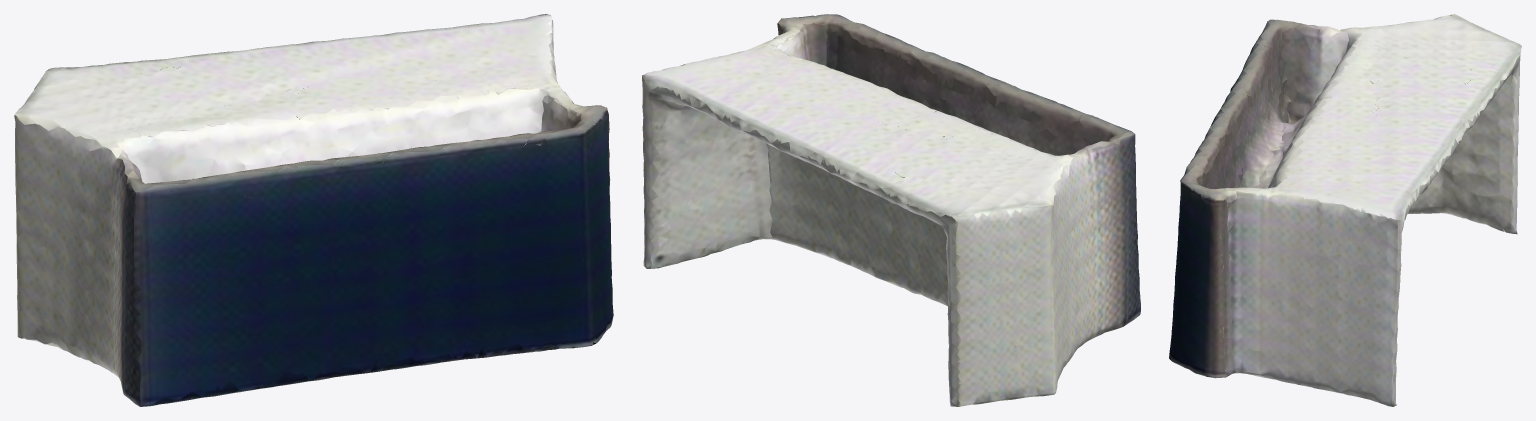
3 renders of one model, left to right at view 1: azimuth 30°, elevation 25°; view 2: azimuth 150°, elevation 25°; view 3: azimuth 270°, elevation 25°, orthographic. The views are drawn at different scales.
Visible parts, largest first — view 1: world; view 2: world; view 3: world.
Boxes of the visible parts, box(x1,y1,x2,y2) form: world: box(14, 14, 613, 406); world: box(642, 14, 1140, 406); world: box(1169, 14, 1521, 406).
Size of the model in its own units: 0.9375 by 0.403 by 0.6711.
Materials: 1 (1 with a texture image).
